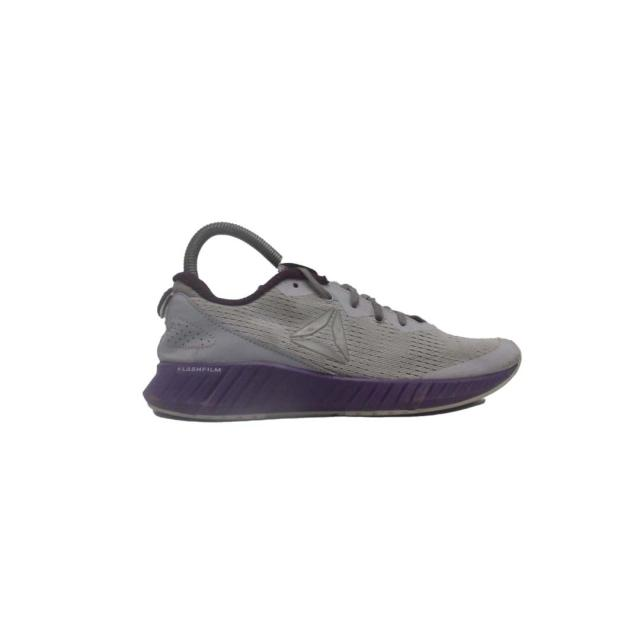heel: (139, 256, 183, 363)
midsole: (142, 360, 535, 420)
uppersole: (190, 244, 526, 378)
